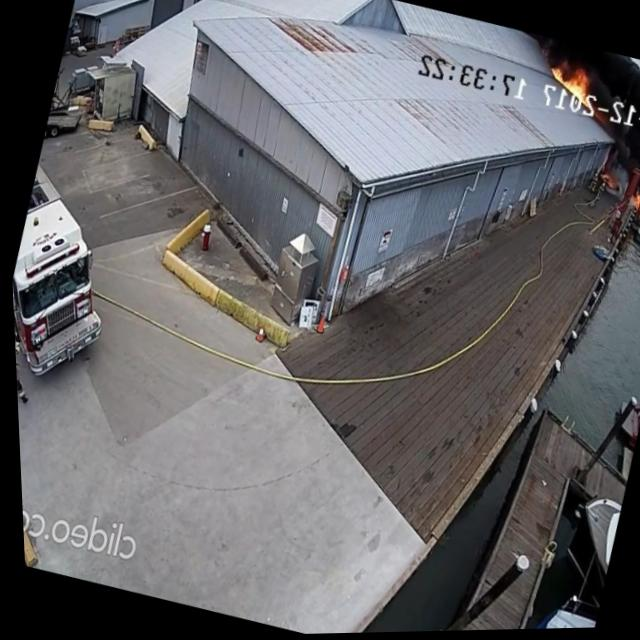fire: (539, 53, 598, 110), (594, 166, 622, 198), (623, 179, 640, 220)
